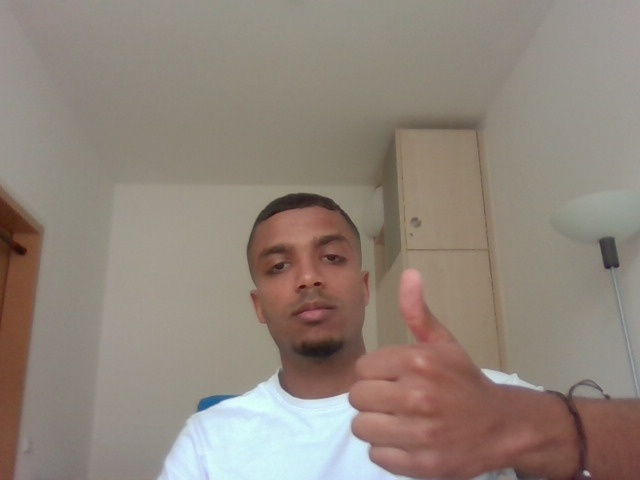yes: (343, 259, 532, 480)
